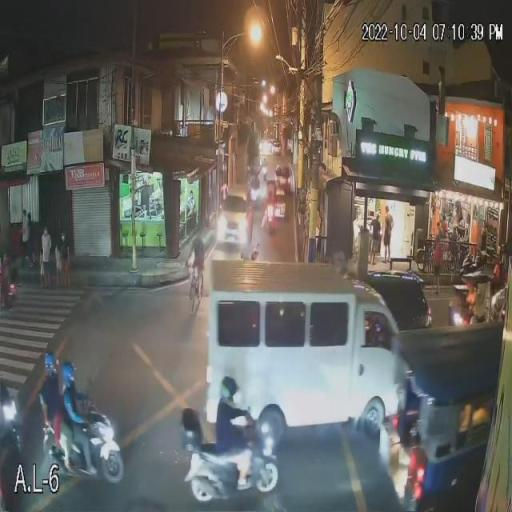helmet: (215, 373, 241, 402), (37, 349, 62, 379), (62, 359, 80, 389)
motorcycle: (179, 405, 288, 504), (44, 401, 128, 485)
rider: (207, 404, 260, 498), (38, 377, 83, 479), (59, 388, 104, 477)
